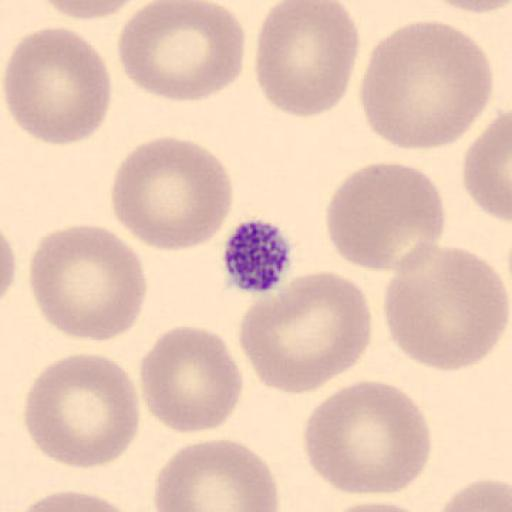Platelet: (220, 217, 295, 295)
RBC: (357, 19, 495, 152), (237, 270, 376, 396), (383, 242, 510, 372), (302, 379, 433, 497), (28, 222, 148, 344), (110, 135, 234, 253), (22, 352, 142, 470), (1, 25, 114, 147), (324, 160, 447, 272), (117, 0, 247, 103), (254, 0, 362, 121), (139, 324, 245, 434), (151, 437, 281, 512), (462, 110, 512, 224), (9, 489, 143, 512), (438, 476, 512, 512), (35, 0, 148, 21), (311, 498, 436, 512), (322, 500, 432, 512), (0, 228, 18, 300), (422, 1, 512, 15)
